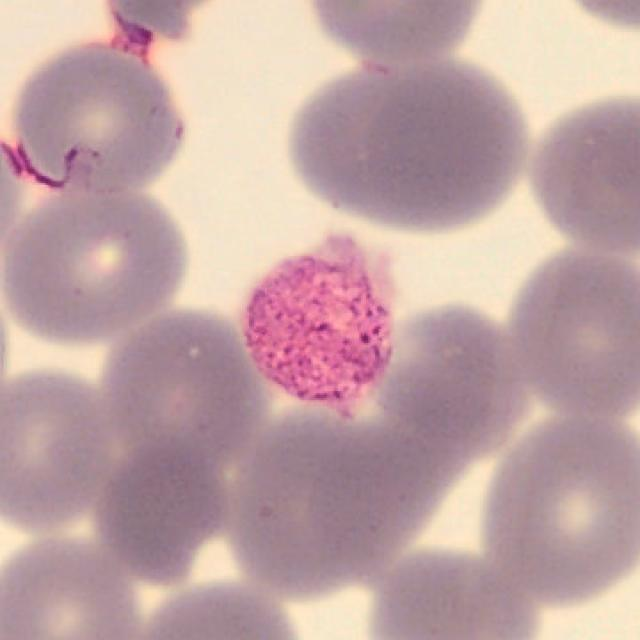Restos celulares: (240, 236, 396, 418)
